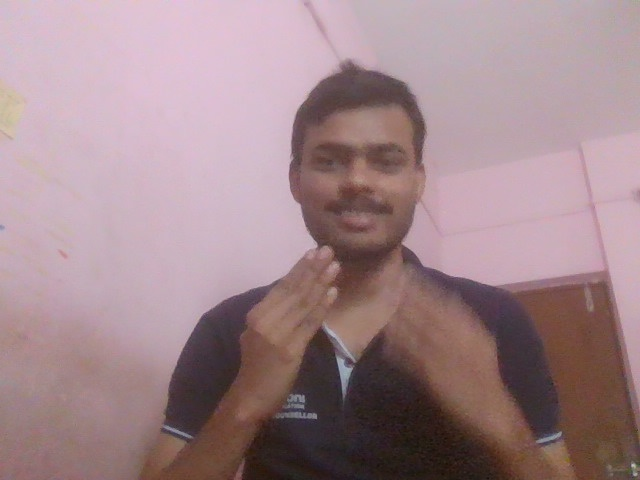ThankYou: (219, 199, 412, 387)
